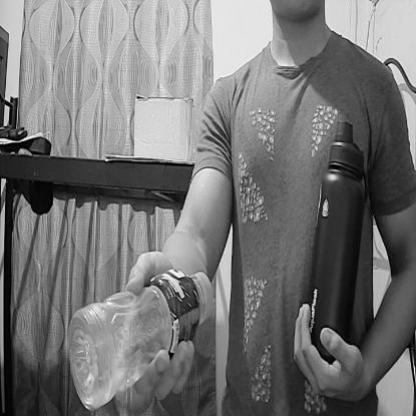Plastic Bottle: (69, 261, 215, 415)
